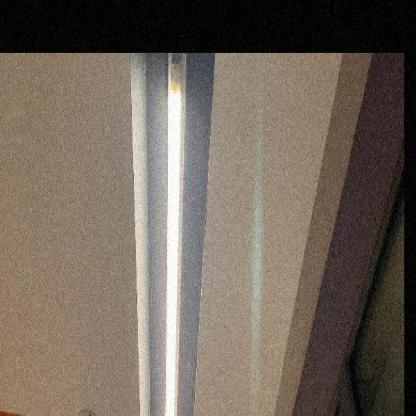light_on: (152, 53, 200, 415)
